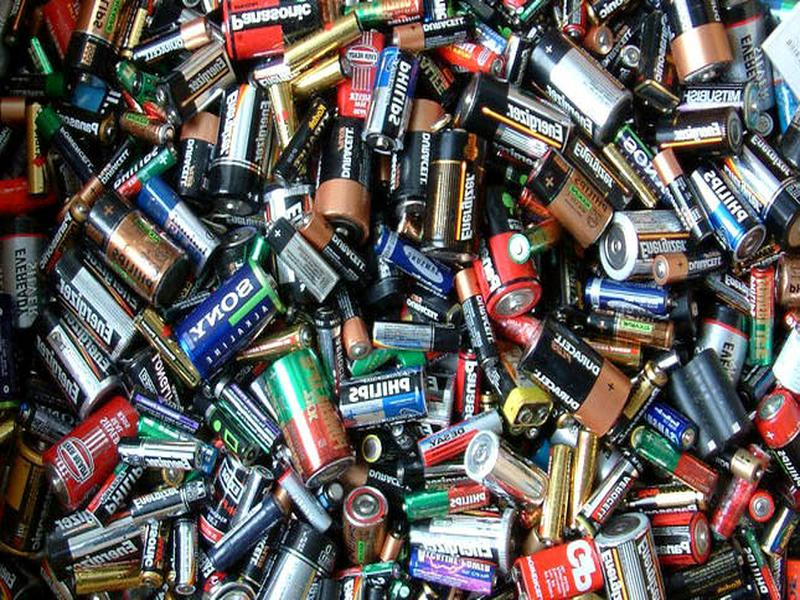battery: (507, 313, 638, 439), (255, 350, 367, 487), (172, 253, 287, 386), (80, 184, 192, 311), (447, 66, 582, 168), (521, 30, 637, 146), (33, 395, 144, 516), (663, 346, 761, 463), (418, 129, 489, 268), (143, 41, 241, 129), (351, 44, 424, 159), (458, 427, 554, 514), (257, 214, 341, 305), (570, 450, 650, 539), (646, 145, 713, 246), (447, 267, 506, 373), (745, 265, 786, 368)
